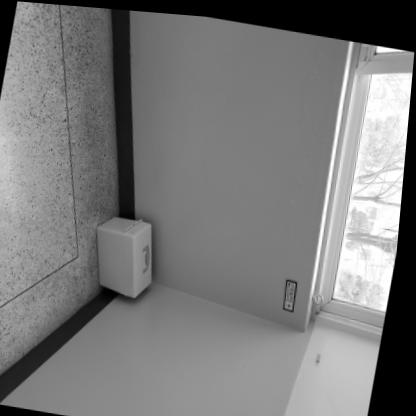DDL: (91, 210, 165, 297)
